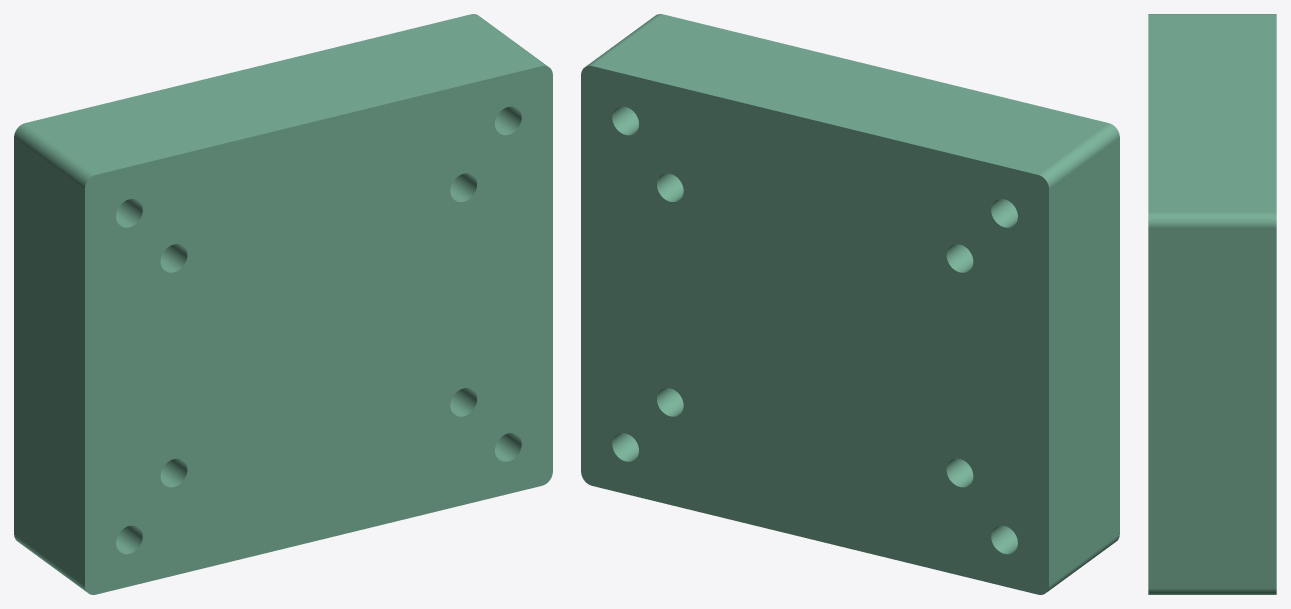
The picture shows the model from 3 angles, left to right: view 1: azimuth 30°, elevation 25°; view 2: azimuth 150°, elevation 25°; view 3: azimuth 270°, elevation 25°; orthographic projection. The views are drawn at different scales.
Parts seen in each view (by area): view 1: W13_w05_axis_riser_11mm; view 2: W13_w05_axis_riser_11mm; view 3: W13_w05_axis_riser_11mm.
Part boxes in pixels (<box>): W13_w05_axis_riser_11mm: <box>14,14,552,594</box>; W13_w05_axis_riser_11mm: <box>581,14,1119,594</box>; W13_w05_axis_riser_11mm: <box>1148,14,1276,594</box>.
Bounding box in the file's own units: 42 × 36 × 11.
